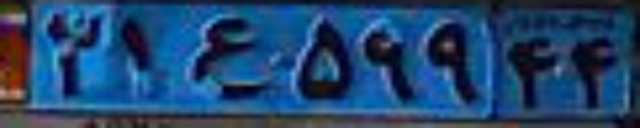1: (115, 19, 158, 101)
2: (44, 15, 103, 98)
4: (506, 35, 558, 111), (568, 37, 621, 110)
5: (292, 18, 353, 100)
9: (424, 20, 480, 104), (361, 25, 418, 102)
ain: (188, 18, 278, 99)
